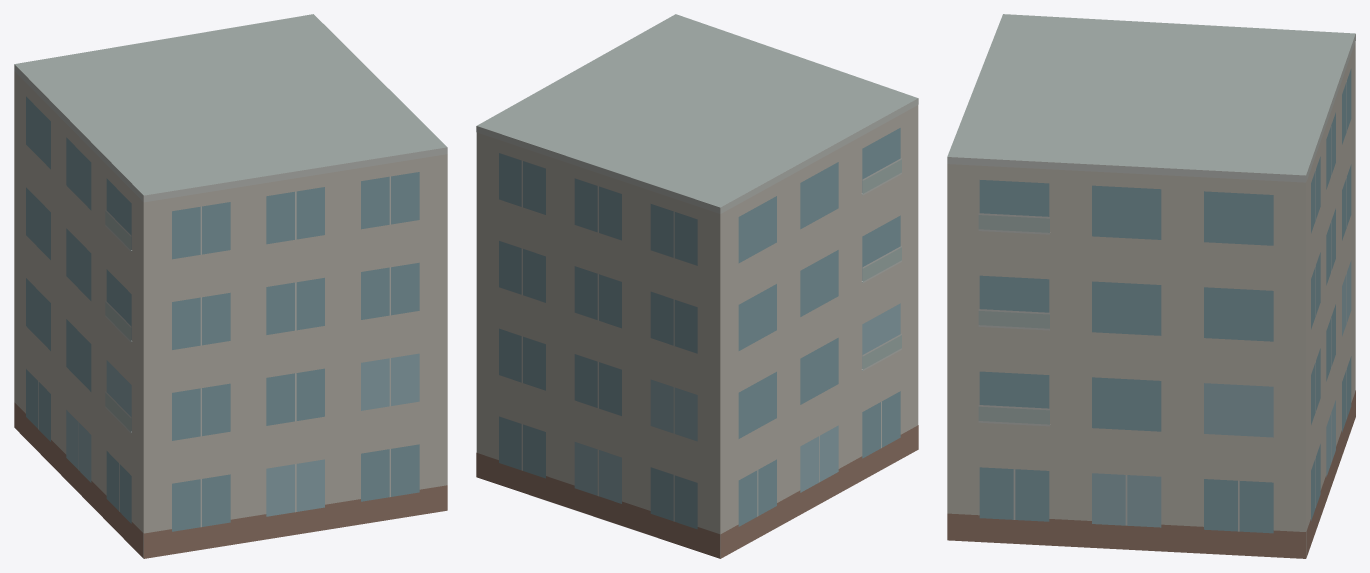
The model's file is survey-upis-32812984.glb.
3 views of the same model, side by side, from view 1: azimuth 30°, elevation 25°; view 2: azimuth 150°, elevation 25°; view 3: azimuth 270°, elevation 25° (orthographic). The views are drawn at different scales.
Parts seen in each view (by area): view 1: survey-upis-32812984.tmp; view 2: survey-upis-32812984.tmp; view 3: survey-upis-32812984.tmp.
Boxes of the visible parts, x1,y1,x2,y2 form: survey-upis-32812984.tmp: (14, 14, 447, 558); survey-upis-32812984.tmp: (476, 14, 918, 558); survey-upis-32812984.tmp: (947, 14, 1355, 558).
Size of the model in its own units: 11.84 by 13.1 by 12.66.
